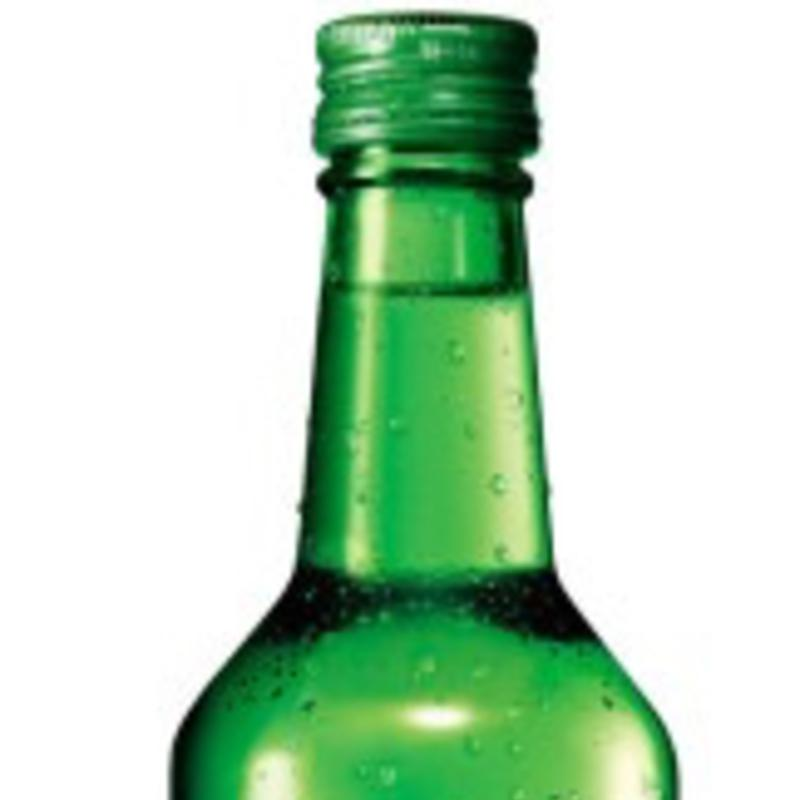soju: (166, 6, 686, 799)
